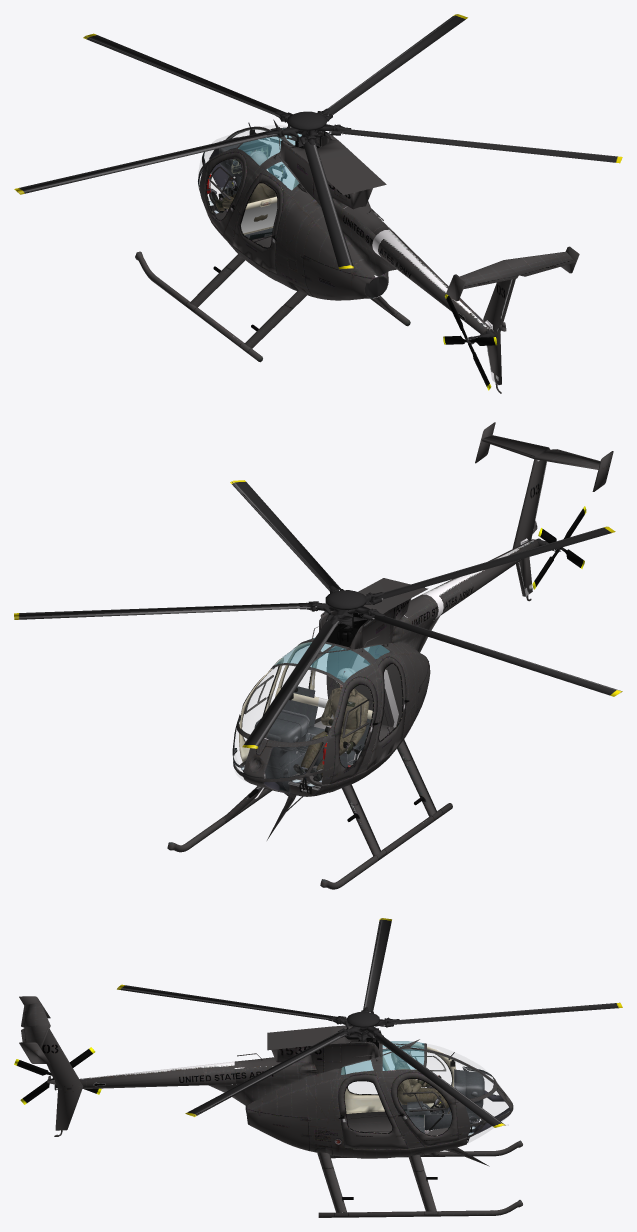
3 views of the same model, one above another, from view 1: azimuth 30°, elevation 25°; view 2: azimuth 150°, elevation 25°; view 3: azimuth 270°, elevation 25° (orthographic). The views are drawn at different scales.
Visible parts, largest first — view 1: ext_fuse1.001, rotor_main, ext_fuse1, ext_fuse1_doors, ext_skids, glasss_grn, int_seats2, int_pilotR, int_console, rotor_tail, int_fuse2; view 2: ext_fuse1.001, rotor_main, ext_fuse1, ext_fuse1_doors, ext_skids, int_pilotR, int_console, glasss_grn, int_seats2, glass, ext_fuse1.002, rotor_tail (+2 smaller); view 3: ext_fuse1.001, rotor_main, ext_fuse1, ext_fuse1_doors, ext_skids, glass, int_console, ext_fuse1.002, glasss_grn, int_pilotR, ext_fuse1.003, rotor_tail (+2 smaller).
Boxes of the visible parts, x1,y1,x2,y2 form: ext_fuse1.001: (288,149,579,393); rotor_main: (14,14,622,269); ext_fuse1: (198,119,347,282); ext_fuse1_doors: (204,152,299,273); ext_skids: (135,251,410,362); glasss_grn: (238,128,301,190); int_seats2: (233,195,277,239); int_pilotR: (209,150,277,221); int_console: (206,139,271,194); rotor_tail: (443,294,497,390); int_fuse2: (198,128,285,197); ext_fuse1.001: (326,422,613,732); rotor_main: (14,480,622,748); ext_fuse1: (233,604,412,798); ext_fuse1_doors: (239,642,409,783); ext_skids: (167,739,452,889); int_pilotR: (293,668,369,781); int_console: (254,709,326,791); glasss_grn: (274,638,389,682); int_seats2: (275,686,372,767); glass: (234,666,310,781); ext_fuse1.002: (267,735,406,840); rotor_tail: (532,506,586,589); ext_fuse1.001: (19,996,331,1152); rotor_main: (117,918,622,1127); ext_fuse1: (324,1025,513,1149); ext_fuse1_doors: (338,1043,458,1149); ext_skids: (317,1140,522,1217); glass: (348,1044,508,1143); int_console: (424,1069,484,1132); ext_fuse1.002: (325,1137,489,1166); glasss_grn: (341,1041,424,1074); int_pilotR: (394,1043,449,1108); ext_fuse1.003: (346,1108,448,1135); rotor_tail: (14,1047,101,1104).
Bounding box in the file's own units: 7.48 × 2.89 × 9.2.
13 materials, 13 textured.
